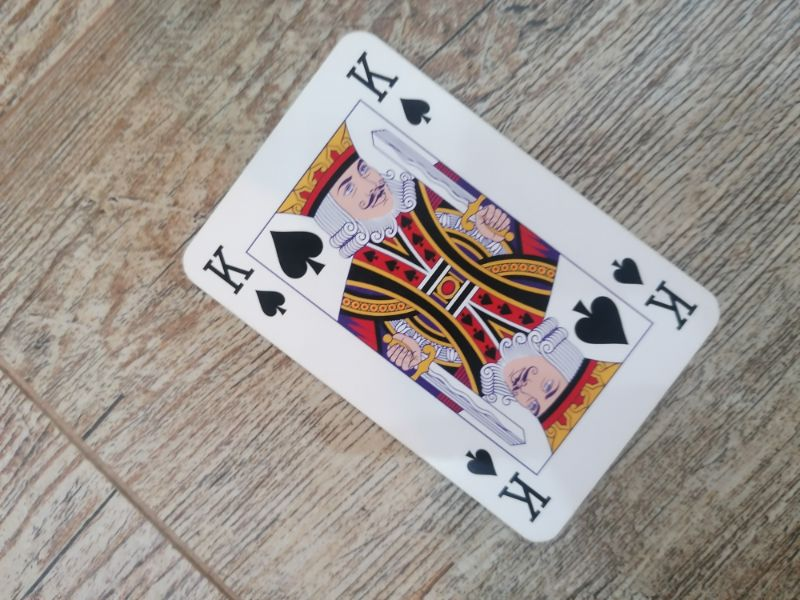Ks: (193, 238, 295, 326), (341, 47, 440, 132), (605, 251, 702, 335), (461, 443, 556, 528)
